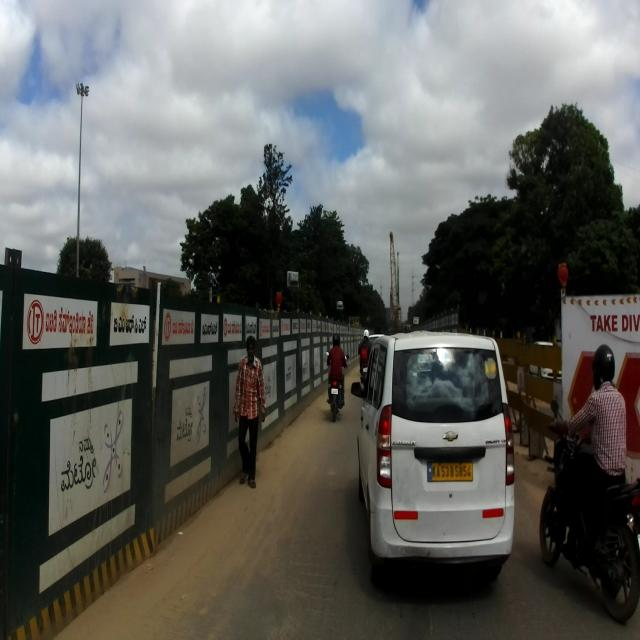car: (350, 329, 516, 594)
motorcycle: (538, 400, 640, 626), (325, 351, 349, 422)
